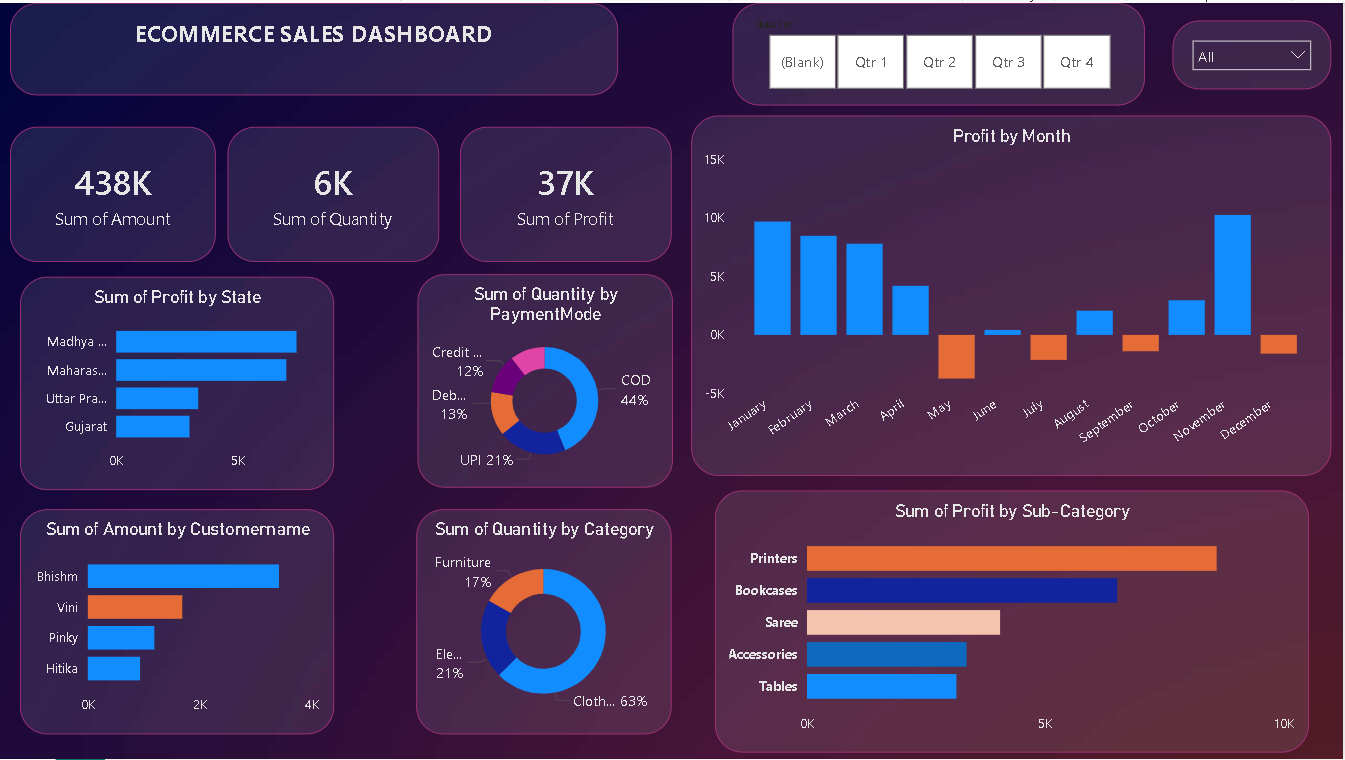

This screenshot's page, from the dashboard's own definition file:
{"tool":"powerbi","page":{"name":"Page 1","canvas":[1280,720],"ordinal":0},"visuals":[{"type":"textbox","box":[9.6,0,579.1,87.8],"z":0},{"type":"columnChart","title":"Profit by Month","fields":{"Category":["Orders.OrderDate.Variation.Date Hierarchy.Month"],"Y":["Sum(Details.Profit)"]},"box":[658.7,107,609.3,343.1],"z":1000},{"type":"barChart","fields":{"Category":["Details.Sub-Category"],"Y":["Sum(Details.Profit)"]},"box":[680.6,463.8,565.4,249.7],"z":2000},{"type":"donutChart","fields":{"Y":["Sum(Details.Quantity)"],"Category":["Details.Category"]},"box":[396.6,481.6,242.9,214.1],"z":3000},{"type":"donutChart","fields":{"Y":["Sum(Details.Quantity)"],"Category":["Details.PaymentMode"]},"box":[397.9,258,242.9,203.1],"z":4000},{"type":"cardVisual","fields":{"Data":["Sum(Details.Amount)"]},"box":[9.6,118,196.2,129],"z":5000},{"type":"cardVisual","fields":{"Data":["Sum(Details.Quantity)"]},"box":[216.8,118,201.7,129],"z":6000},{"type":"cardVisual","fields":{"Data":["Sum(Details.Profit)"]},"box":[437.7,118,201.7,129],"z":7000},{"type":"barChart","fields":{"Category":["Orders.State"],"Y":["Sum(Details.Profit)"]},"box":[19.2,260.7,299.1,203.1],"z":8000},{"type":"barChart","fields":{"Category":["Orders.Customername"],"Y":["Sum(Details.Amount)"]},"box":[19.2,481.6,299.1,214.1],"z":9000},{"type":"slicer","fields":{"Values":["Orders.OrderDate.Variation.Date Hierarchy.Quarter"]},"box":[697.1,0,392.5,97.4],"z":9001},{"type":"slicer","fields":{"Values":["Orders.State"]},"box":[1117,16.5,150.9,65.9],"z":9002}]}

Visuals, with their boxes in screenshot pixels (x1, y1, x2, y2), scaled from the page's 1280x720 canvas onto the 1345x760 screenshot:
textbox: pyautogui.locateOnScreen(10, 0, 619, 93)
"Profit by Month" columnChart: pyautogui.locateOnScreen(692, 113, 1332, 475)
barChart - Details.Sub-Category x Sum(Details.Profit): pyautogui.locateOnScreen(715, 490, 1309, 753)
donutChart - Sum(Details.Quantity) x Details.Category: pyautogui.locateOnScreen(417, 508, 672, 734)
donutChart - Sum(Details.Quantity) x Details.PaymentMode: pyautogui.locateOnScreen(418, 272, 673, 487)
cardVisual - Sum(Details.Amount): pyautogui.locateOnScreen(10, 125, 216, 261)
cardVisual - Sum(Details.Quantity): pyautogui.locateOnScreen(228, 125, 440, 261)
cardVisual - Sum(Details.Profit): pyautogui.locateOnScreen(460, 125, 672, 261)
barChart - Orders.State x Sum(Details.Profit): pyautogui.locateOnScreen(20, 275, 334, 490)
barChart - Orders.Customername x Sum(Details.Amount): pyautogui.locateOnScreen(20, 508, 334, 734)
slicer - Orders.OrderDate.Variation.Date Hierarchy.Quarter: pyautogui.locateOnScreen(732, 0, 1145, 103)
slicer - Orders.State: pyautogui.locateOnScreen(1174, 17, 1332, 87)
